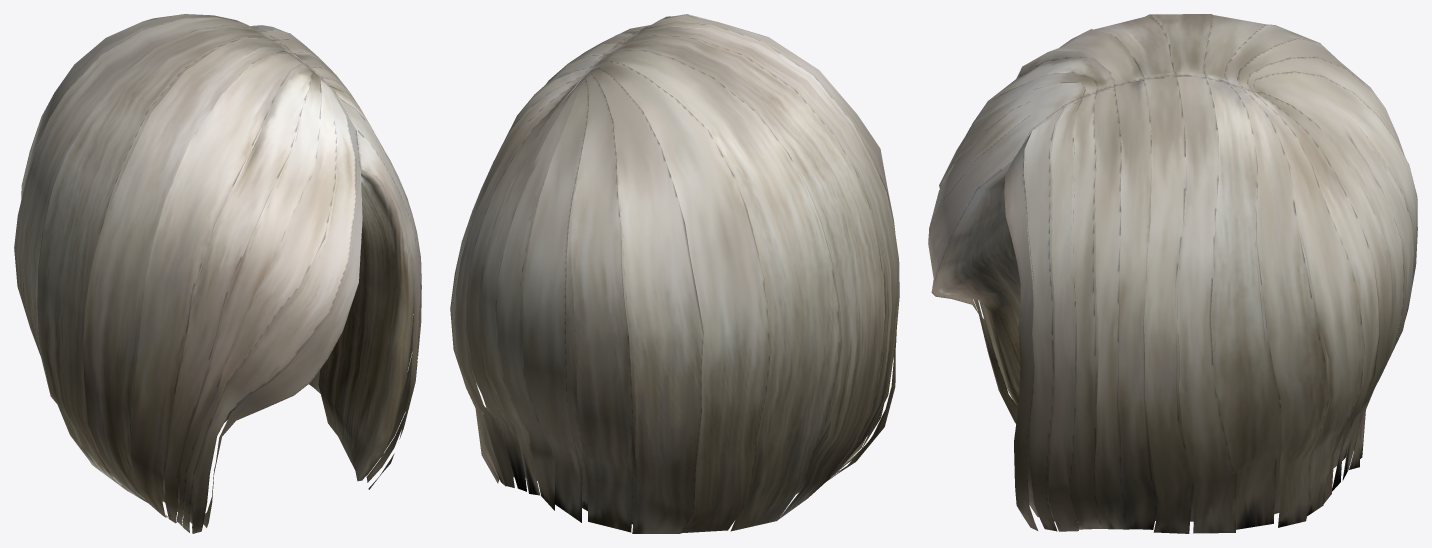
The model's file is bob.glb.
3 renders of one model, left to right at view 1: azimuth 30°, elevation 25°; view 2: azimuth 150°, elevation 25°; view 3: azimuth 270°, elevation 25°, orthographic. The views are drawn at different scales.
Visible parts, largest first — view 1: bob_tallpiicep-bob02; view 2: bob_tallpiicep-bob02; view 3: bob_tallpiicep-bob02.
Boxes of the visible parts, x1=… form: bob_tallpiicep-bob02: x1=14, y1=14, x2=421, y2=533; bob_tallpiicep-bob02: x1=450, y1=14, x2=899, y2=533; bob_tallpiicep-bob02: x1=928, y1=14, x2=1417, y2=533.
Size of the model in its own units: 0.2158 by 0.2643 by 0.253.
1 material, 1 textured.
